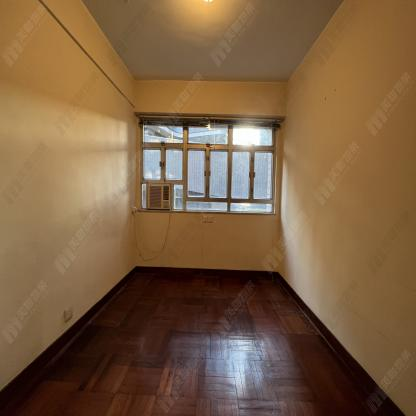AC: (146, 184, 171, 209)
